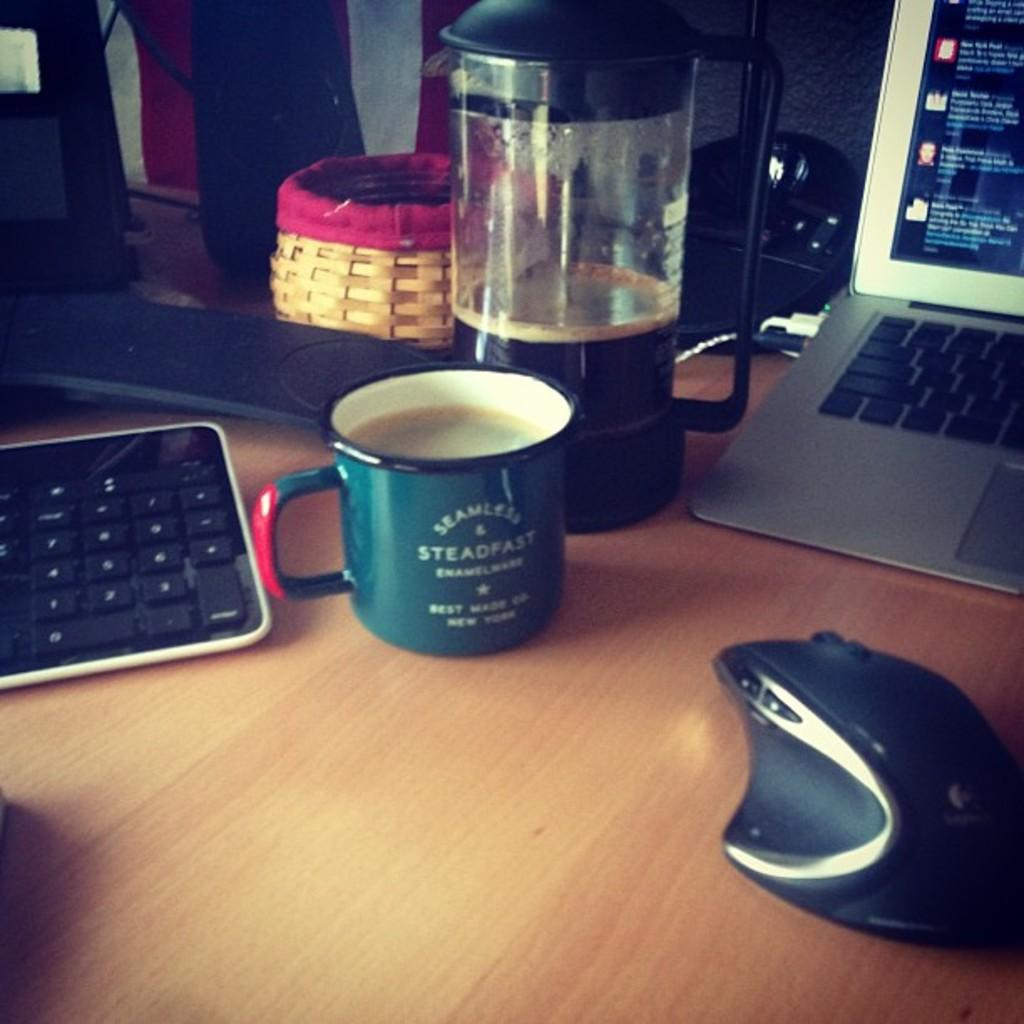Computer-mouse: (709, 626, 1022, 962)
